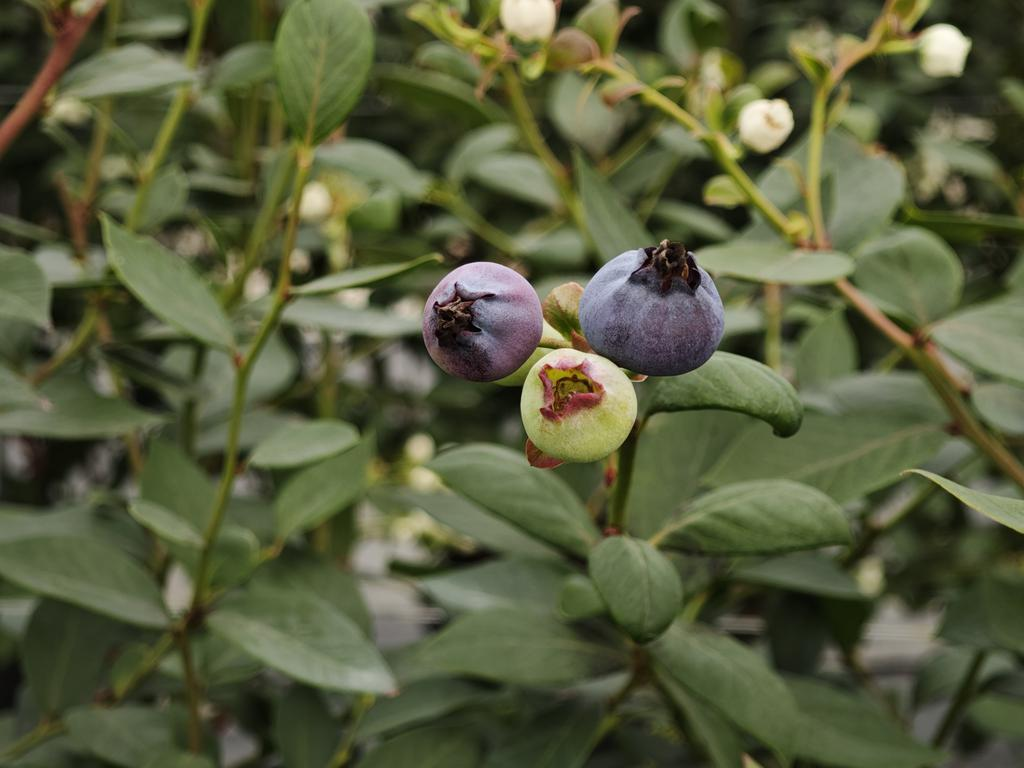RipeBlueBerry: (578, 239, 729, 379)
Semi-RipeBlueBerry: (418, 261, 544, 384)
UnripeBlueBerry: (515, 348, 640, 466)
